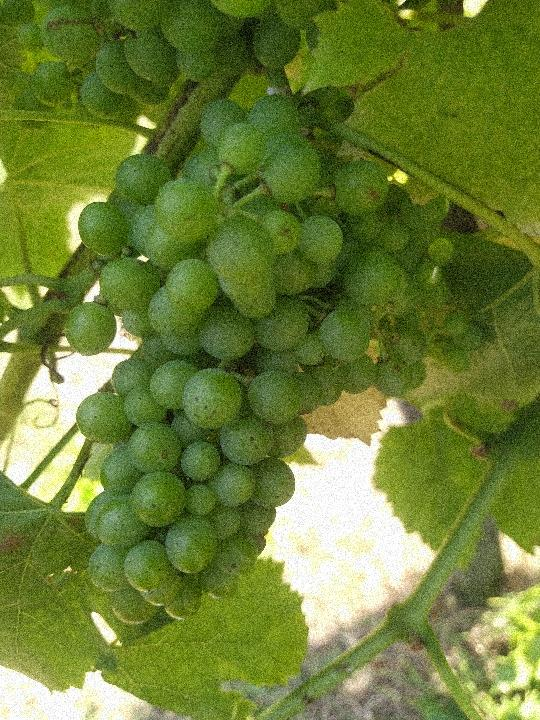grape: (59, 90, 487, 630)
